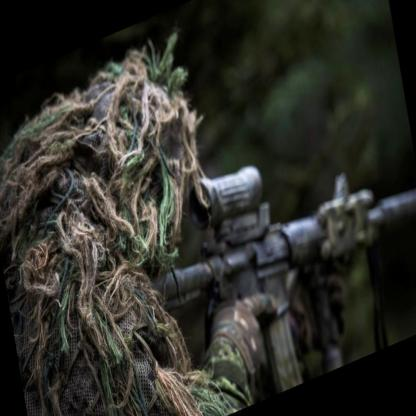rifle: (135, 77, 416, 384)
